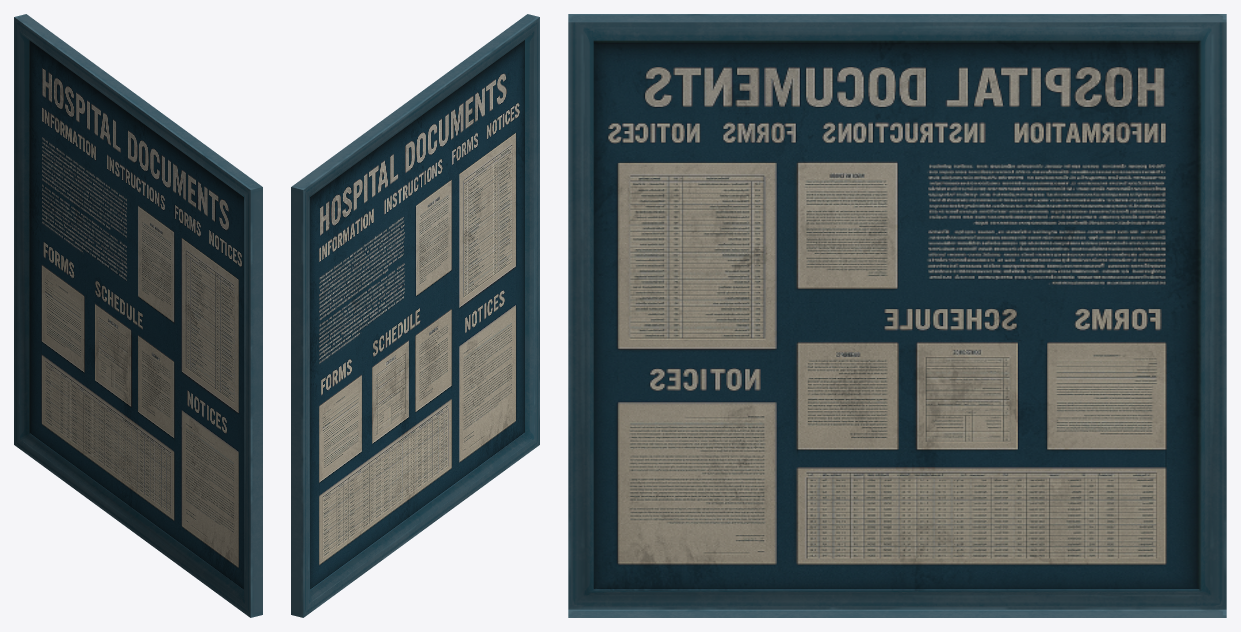
Rendered from HH_Hospital_Administration_Board.fbx.
The picture shows the model from 3 angles, left to right: view 1: azimuth 30°, elevation 25°; view 2: azimuth 150°, elevation 25°; view 3: azimuth 270°, elevation 25°; orthographic projection. The views are drawn at different scales.
Visible parts, largest first — view 1: HH_Hospital_Administration_Board; view 2: HH_Hospital_Administration_Board; view 3: HH_Hospital_Administration_Board.
Boxes of the visible parts, x1=… form: HH_Hospital_Administration_Board: x1=14, y1=14, x2=262, y2=617; HH_Hospital_Administration_Board: x1=291, y1=14, x2=539, y2=617; HH_Hospital_Administration_Board: x1=568, y1=14, x2=1226, y2=617.
Size of the model in its own units: 4.01 by 133 by 133.
